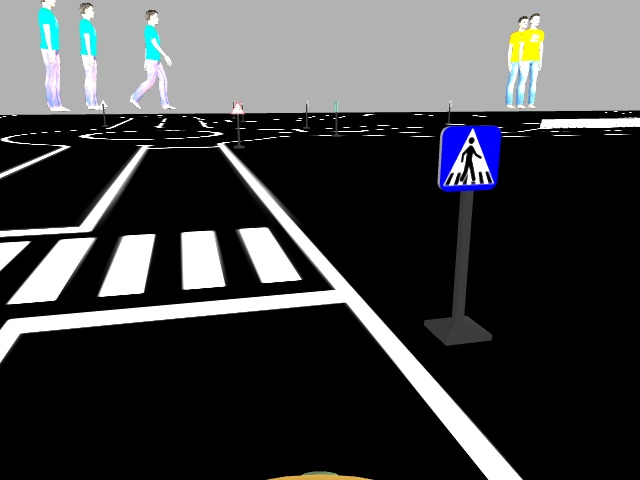Crosswalk: (434, 124, 505, 192)
